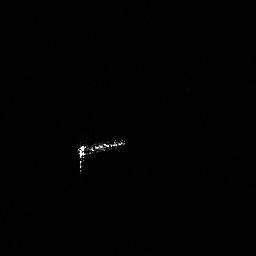ship: (73, 136, 130, 177)
